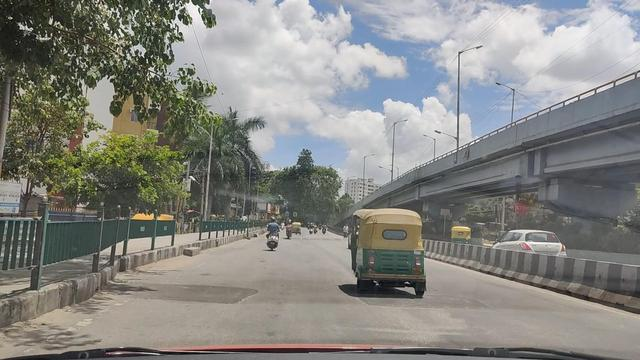LMV: (349, 201, 425, 293)
RoadDamages: (368, 301, 455, 348)
